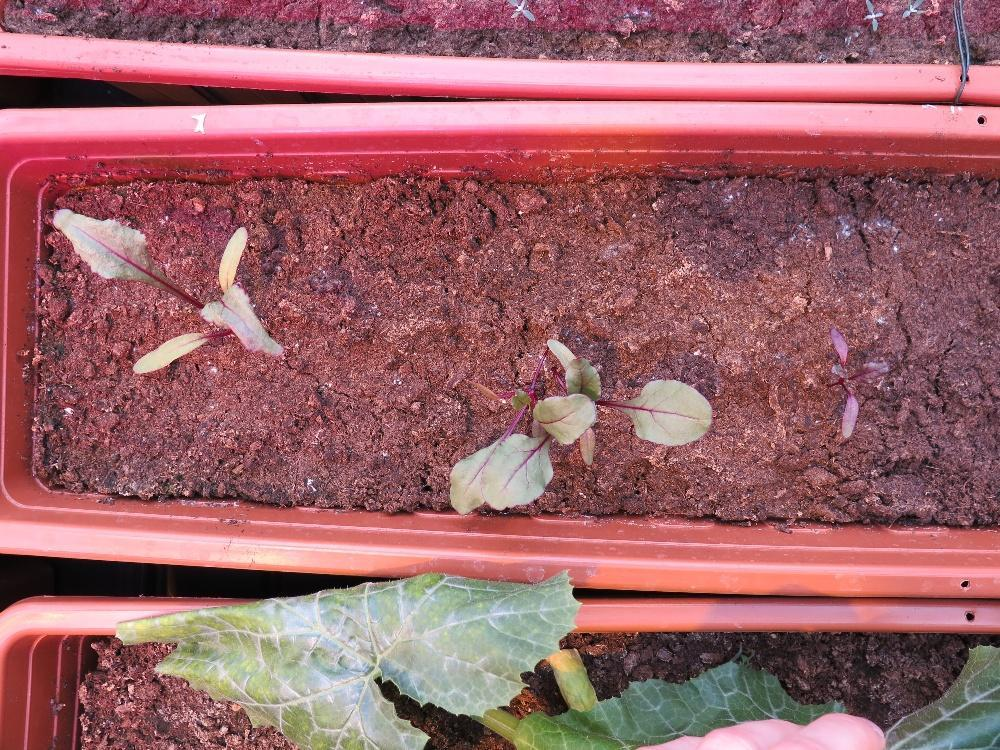weed: (862, 0, 884, 32)
